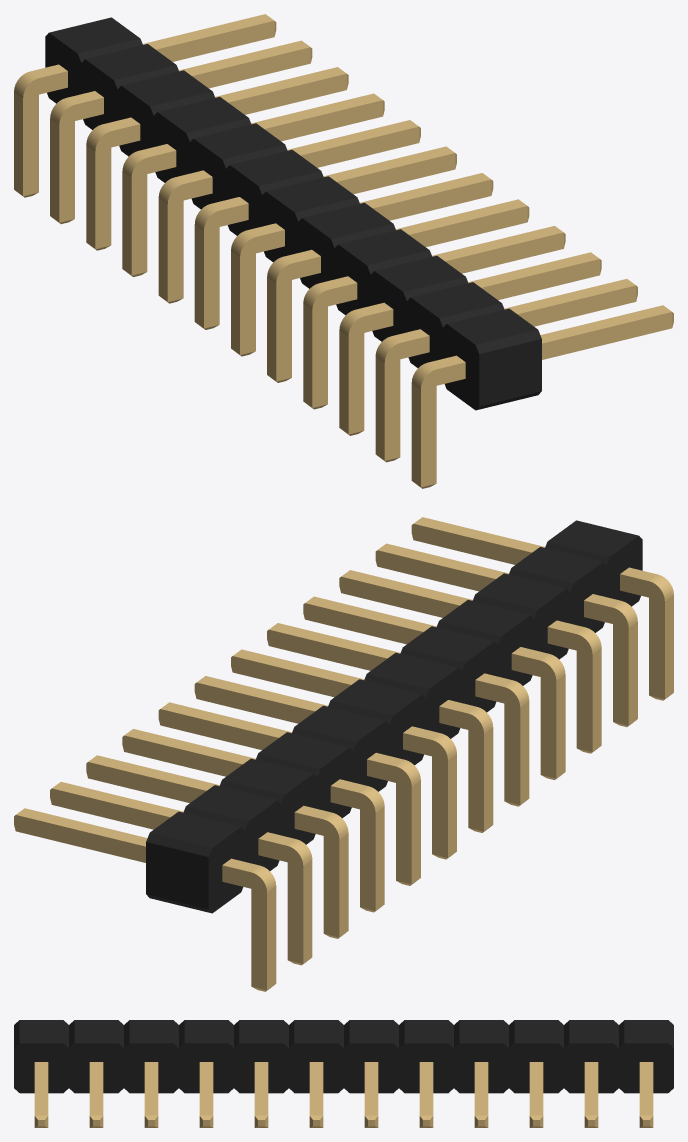
The model's file is kc-pinheader_1x12_p2.54mm_horizontal.glb.
3 views of the same model, one above another, from view 1: azimuth 30°, elevation 25°; view 2: azimuth 150°, elevation 25°; view 3: azimuth 270°, elevation 25° (orthographic). The views are drawn at different scales.
Parts seen in each view (by area): view 1: 0.75_0.5_0.25_0.9, 0_0_0_0; view 2: 0.75_0.5_0.25_0.9, 0_0_0_0; view 3: 0_0_0_0, 0.75_0.5_0.25_0.9.
Part boxes in pixels (<box>): 0.75_0.5_0.25_0.9: <box>14,14,673,488</box>; 0_0_0_0: <box>45,17,541,410</box>; 0.75_0.5_0.25_0.9: <box>14,517,673,991</box>; 0_0_0_0: <box>146,520,642,913</box>; 0_0_0_0: <box>14,1020,673,1093</box>; 0.75_0.5_0.25_0.9: <box>34,1062,653,1127</box>.
Bounding box in the file's own units: 1.04 × 0.554 × 3.05.
